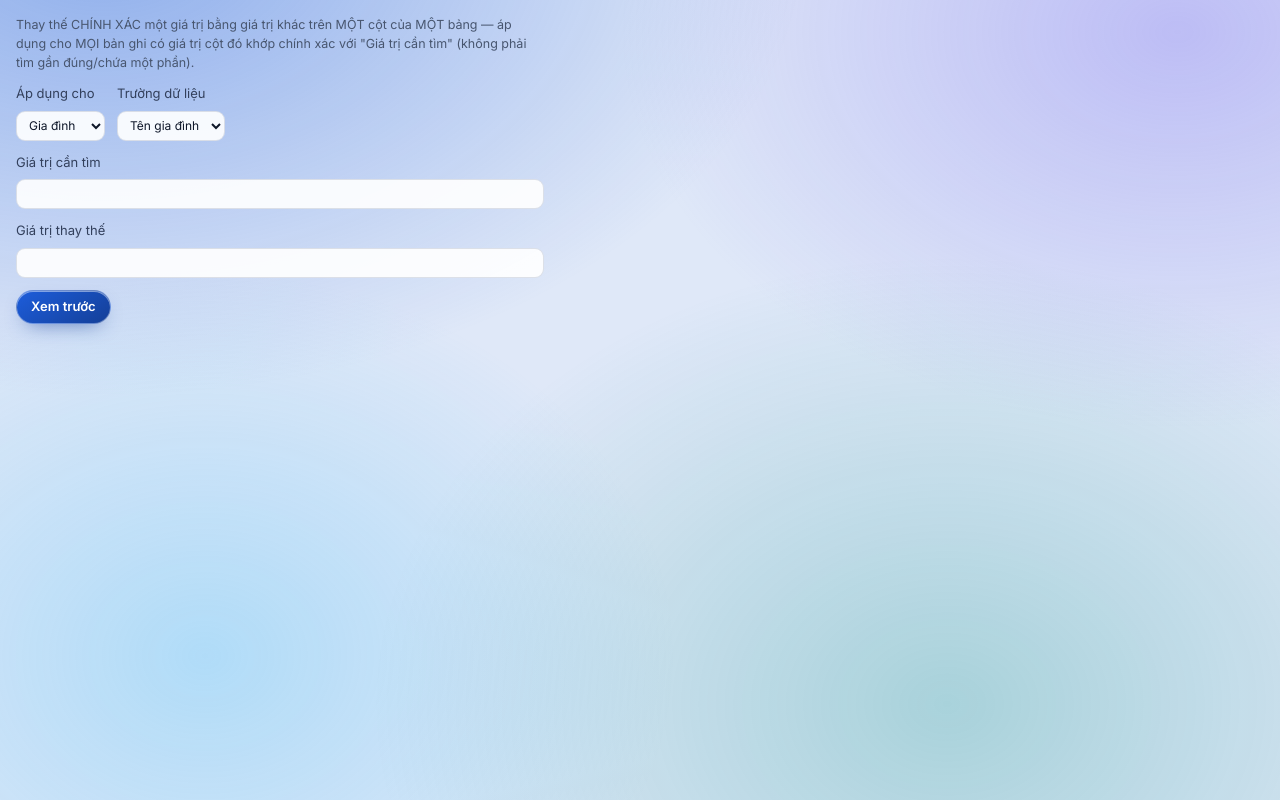
Test: TimThayThePage › xac nhan goi ghi that va hien dung thong bao nguyen van desktop
This screenshot has width=1280, height=800.
Type "Sài Gòn" into the field labelled "Giá trị cần tìm" at point(280, 194), box [16,179,544,209]
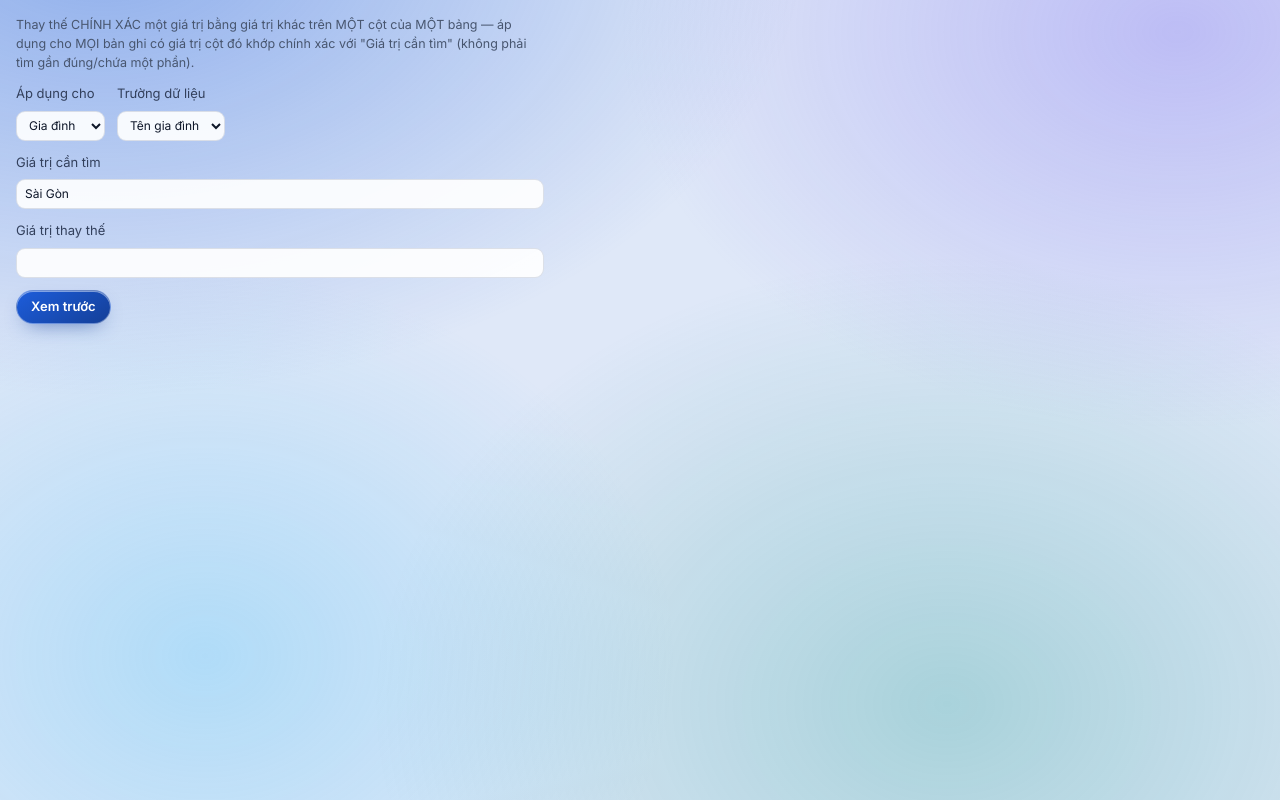
Click the button "Xem trước" at point(63, 307), box [16,290,111,324]
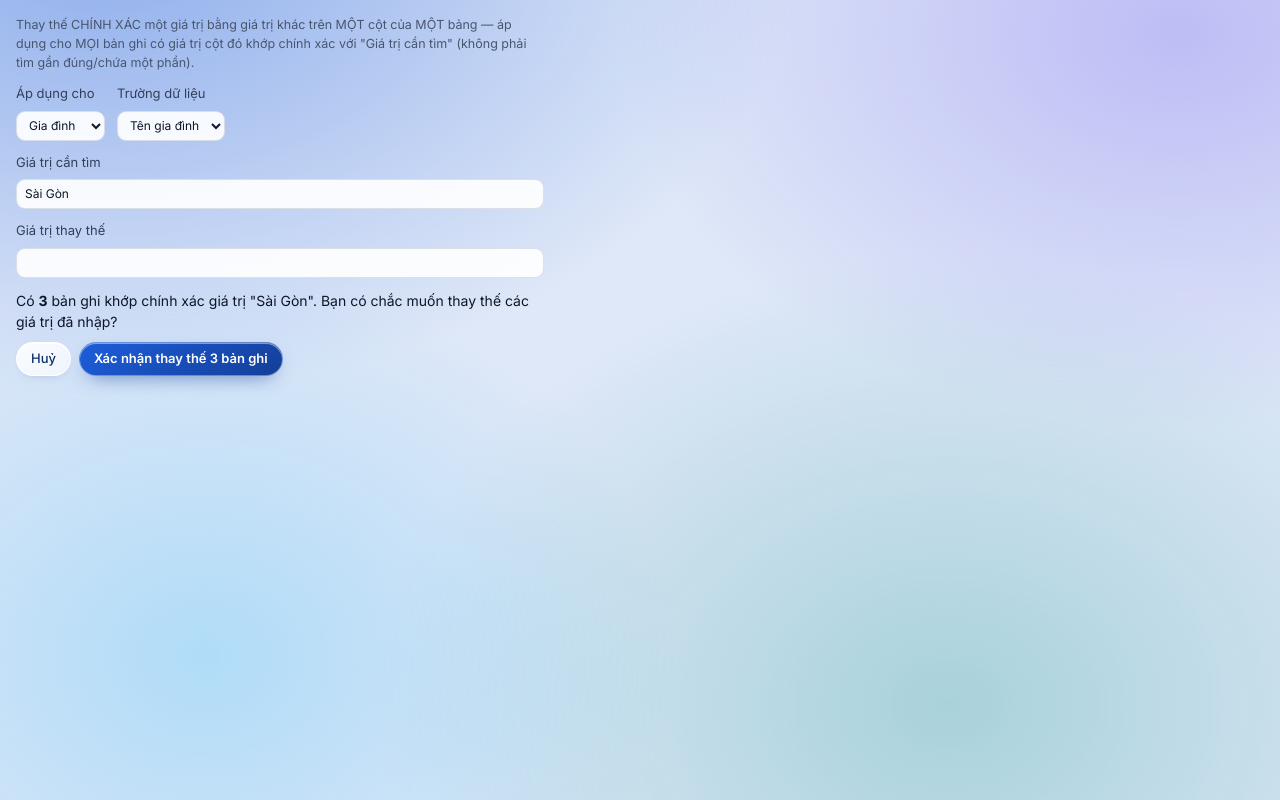
Expected: the text "3" is shown, [39,292,48,309]
Click the button "Xác nhận thay thế 3 bản ghi" at point(181, 359), box [79,342,283,376]
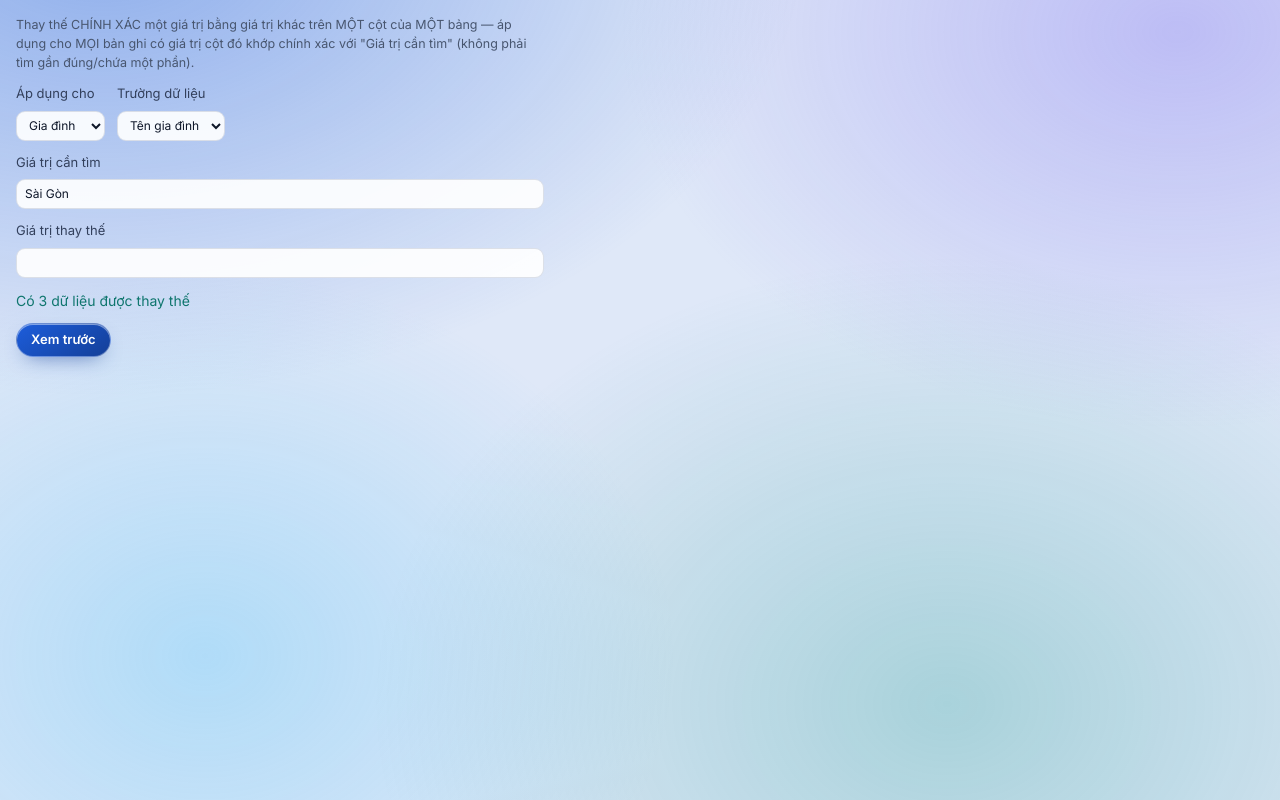
Expected: the text "Có 3 dữ liệu được thay thế" is shown, [16,292,190,309]
